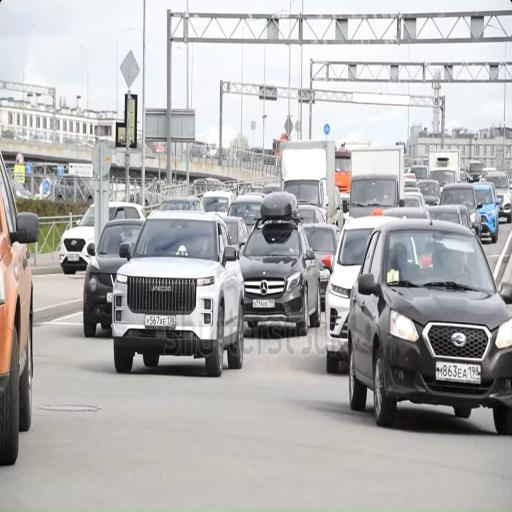License plates: (436, 361, 481, 383), (145, 315, 175, 328), (253, 299, 274, 308), (68, 254, 79, 262), (107, 293, 112, 302)
